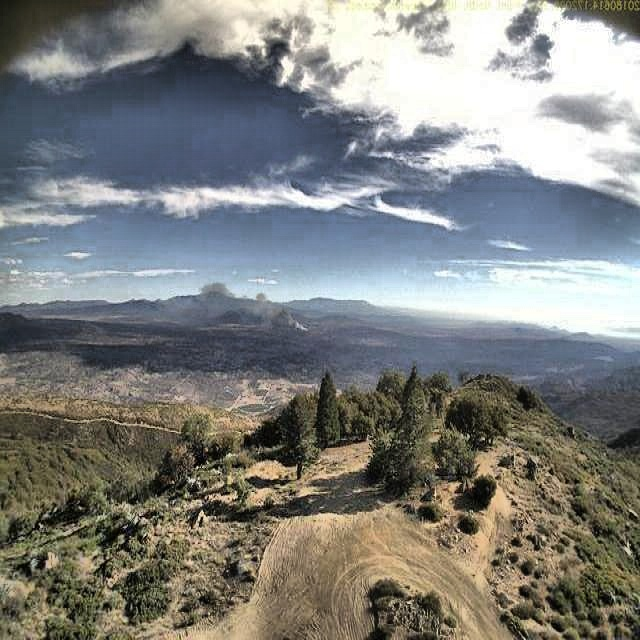smoke: (198, 273, 314, 339)
